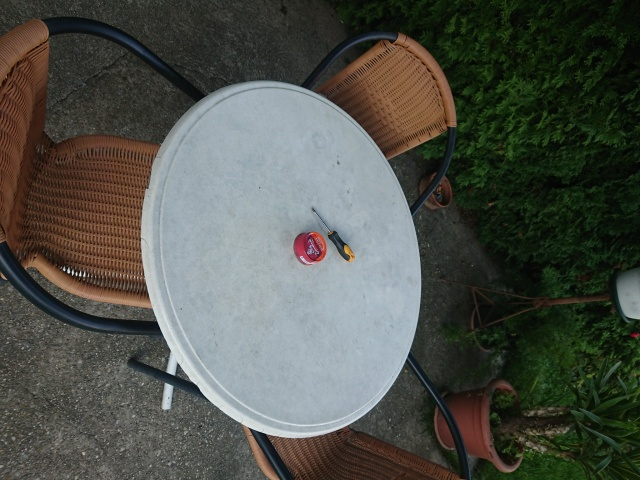Gavrilovic Pork Liver Pate 100g: (291, 229, 327, 265)
